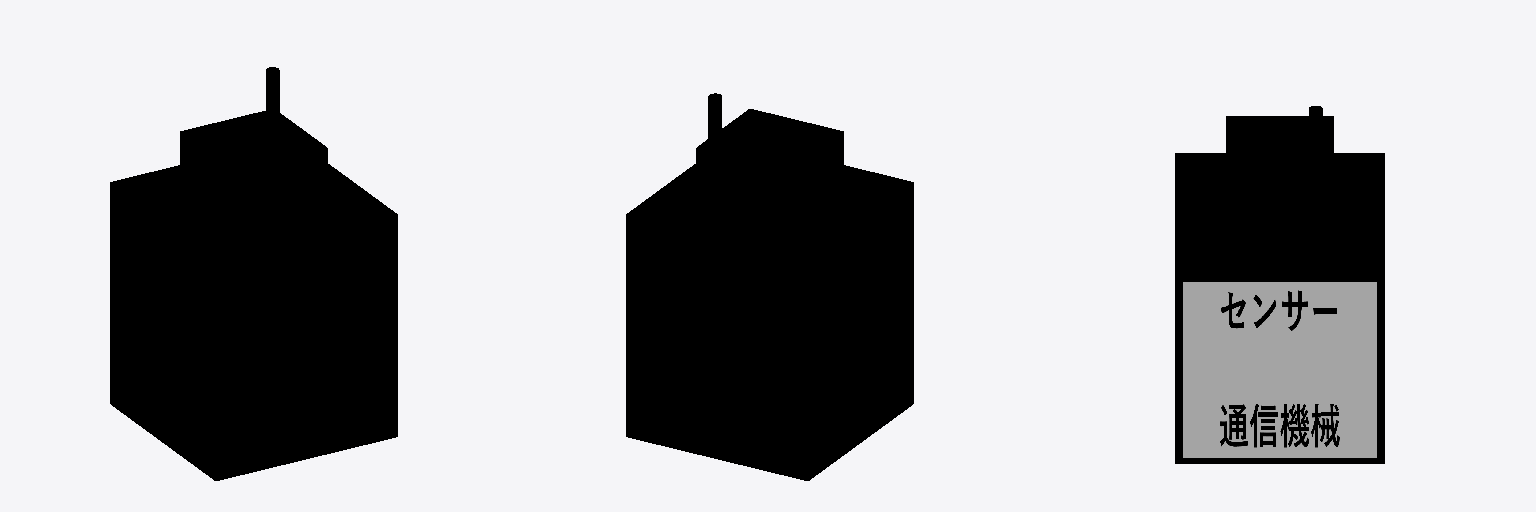
3 views of the same model, side by side, from view 1: azimuth 30°, elevation 25°; view 2: azimuth 150°, elevation 25°; view 3: azimuth 270°, elevation 25° (orthographic).
Parts seen in each view (by area): view 1: sansa_hontai_平面.005; view 2: sansa_hontai_平面.005; view 3: sansa_hontai_平面.005.
Part boxes in pixels (x1,y1,x2,y2): sansa_hontai_平面.005: (110,67,397,480); sansa_hontai_平面.005: (626,93,913,480); sansa_hontai_平面.005: (1175,106,1384,463).
Size of the model in its own units: 0.6298 by 1.06 by 0.6185.
Materials: 2 (1 with a texture image).